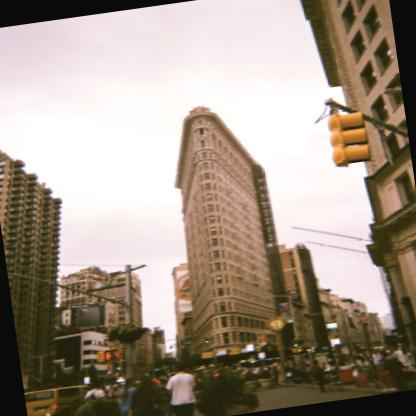trafficlight: (324, 108, 372, 167)
